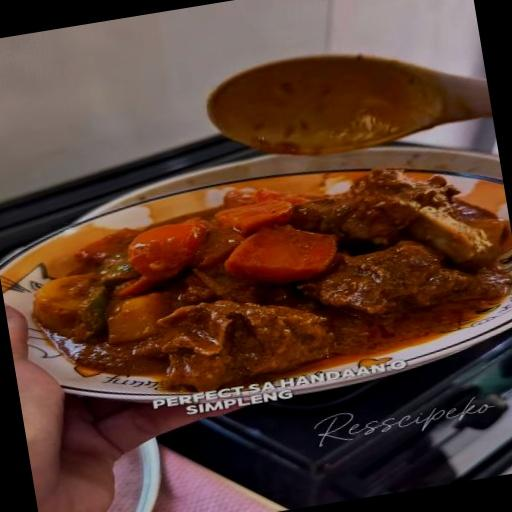pork caldereta: (32, 174, 511, 389)
